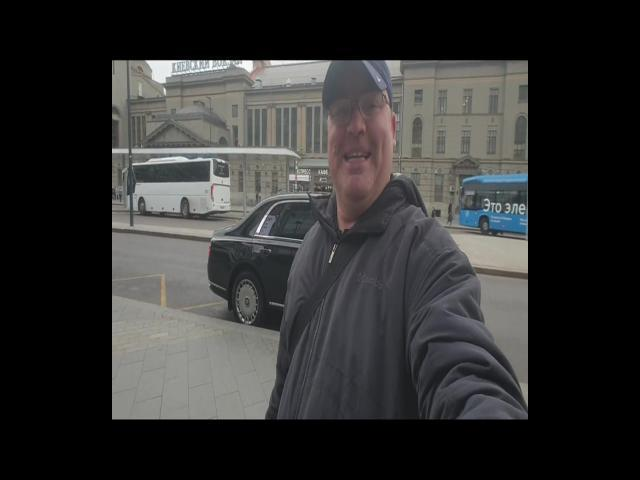bus: (126, 156, 235, 218), (460, 171, 528, 239)
